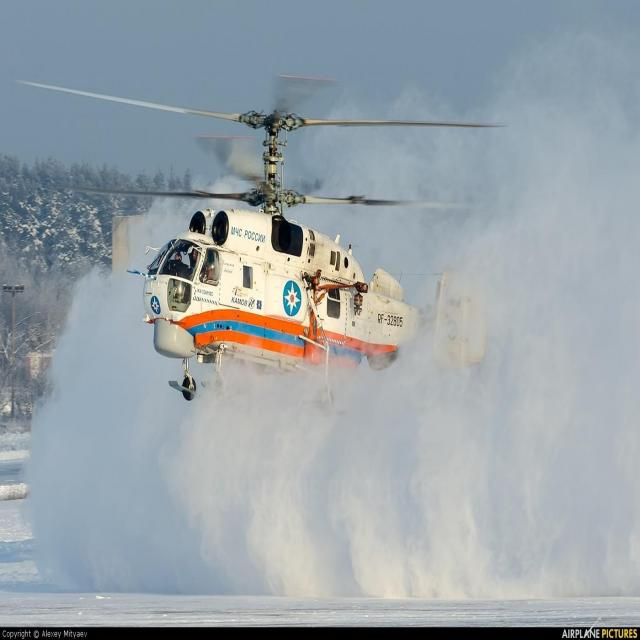MIL_HELO: (16, 59, 503, 426)
